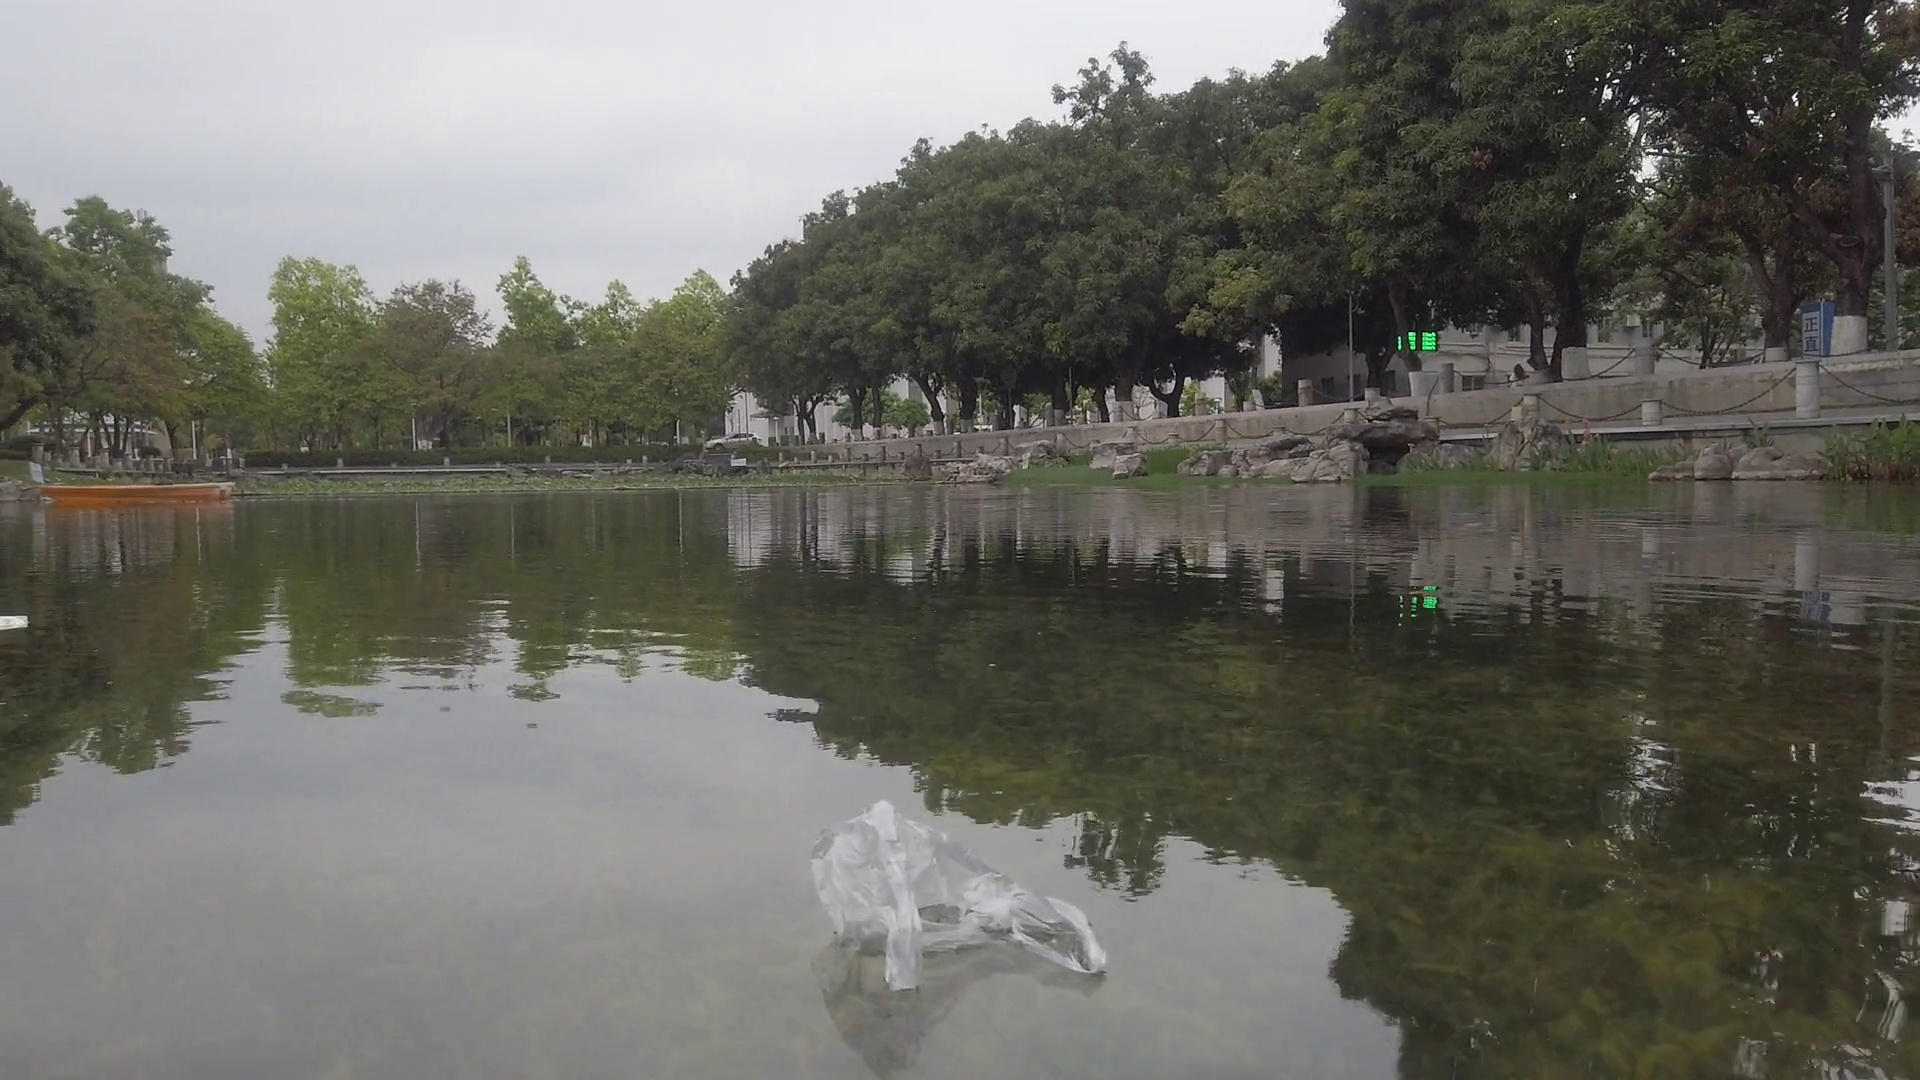paper: (1, 613, 26, 633)
plastic: (814, 804, 1112, 994)
